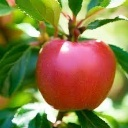apple: (35, 36, 116, 112)
